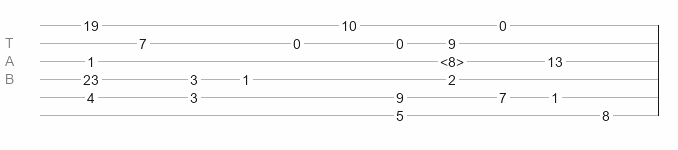0: (293, 36, 301, 46), (396, 36, 404, 46), (499, 18, 507, 28)
1: (87, 54, 95, 64), (242, 72, 250, 82), (551, 90, 559, 100)
10: (341, 18, 357, 28)
13: (547, 54, 563, 64)
19: (83, 18, 99, 28)
2: (448, 72, 456, 82)
23: (83, 72, 99, 82)
3: (190, 72, 198, 82), (190, 90, 198, 100)
4: (87, 90, 95, 100)
5: (396, 108, 404, 118)
7: (139, 36, 147, 46), (499, 90, 507, 100)
8: (602, 108, 610, 118)
9: (396, 90, 404, 100), (448, 36, 456, 46)
harmonic: (440, 54, 464, 64)
